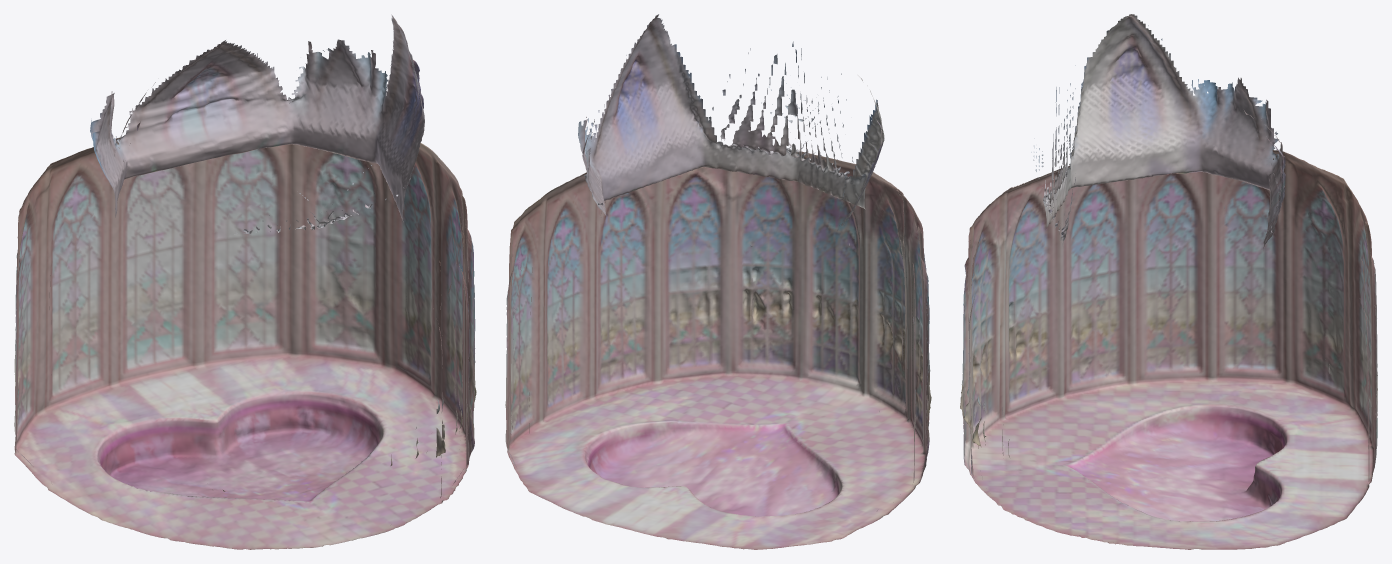
File: heart pool pavillion v2_collider.glb
3 views of the same model, side by side, from view 1: azimuth 30°, elevation 25°; view 2: azimuth 150°, elevation 25°; view 3: azimuth 270°, elevation 25° (orthographic). The views are drawn at different scales.
Visible parts, largest first — view 1: world; view 2: world; view 3: world.
Boxes of the visible parts, x1,y1,x2,y2 form: world: [14, 14, 476, 549]; world: [505, 14, 931, 549]; world: [960, 14, 1377, 549].
Size of the model in its own units: 4.9 by 5.64 by 4.9.
